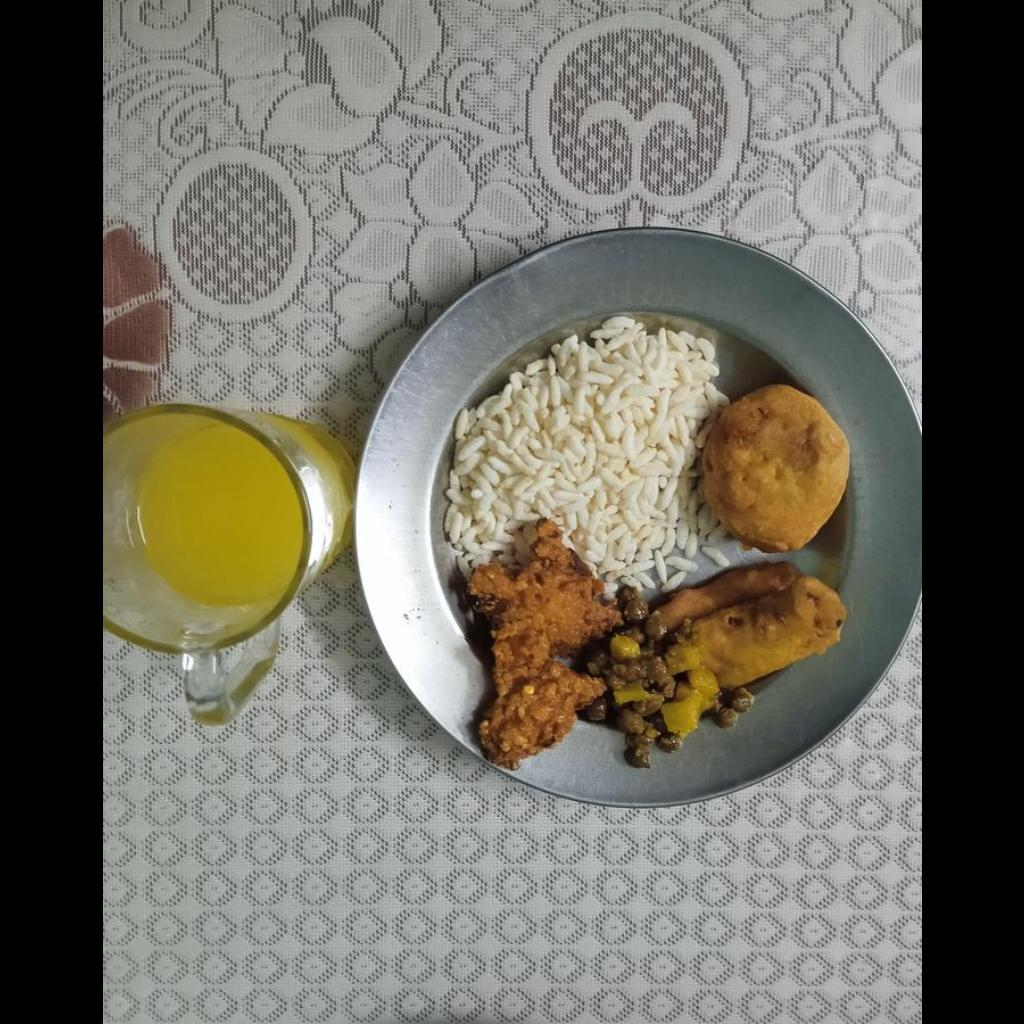beguni: (659, 559, 843, 689)
chola: (580, 593, 752, 767)
chop-alu: (699, 390, 855, 553)
juice: (135, 426, 302, 604)
piyaju: (467, 520, 619, 768)
puffed-rice: (454, 318, 708, 565)
